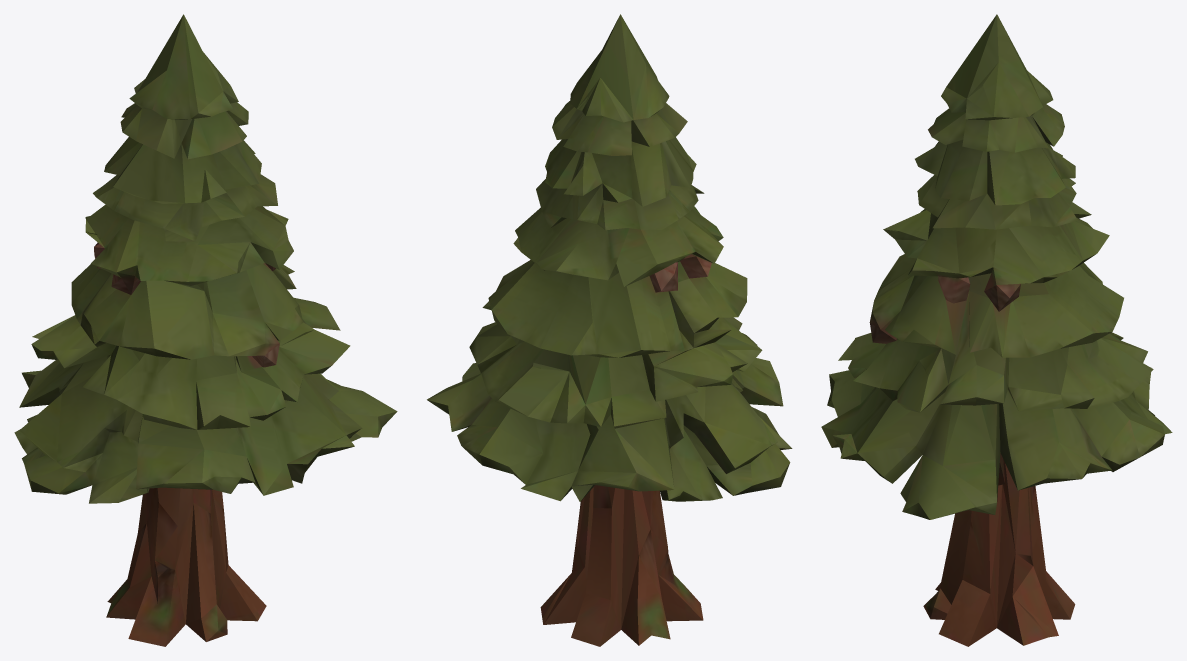
Rendered from bg_forest_pine_3_lod0.glb.
3 renders of one model, left to right at view 1: azimuth 30°, elevation 25°; view 2: azimuth 150°, elevation 25°; view 3: azimuth 270°, elevation 25°, orthographic.
Parts seen in each view (by area): view 1: sway, body; view 2: sway, body; view 3: sway, body.
Boxes of the visible parts, x1,y1,x2,y2 form: sway: [14, 14, 397, 503]; body: [94, 242, 289, 646]; sway: [427, 14, 791, 501]; body: [508, 254, 791, 646]; sway: [821, 14, 1172, 519]; body: [869, 273, 1075, 646].
Bounding box in the file's own units: 2.65 × 4.51 × 2.39.
1 material, 1 textured.
